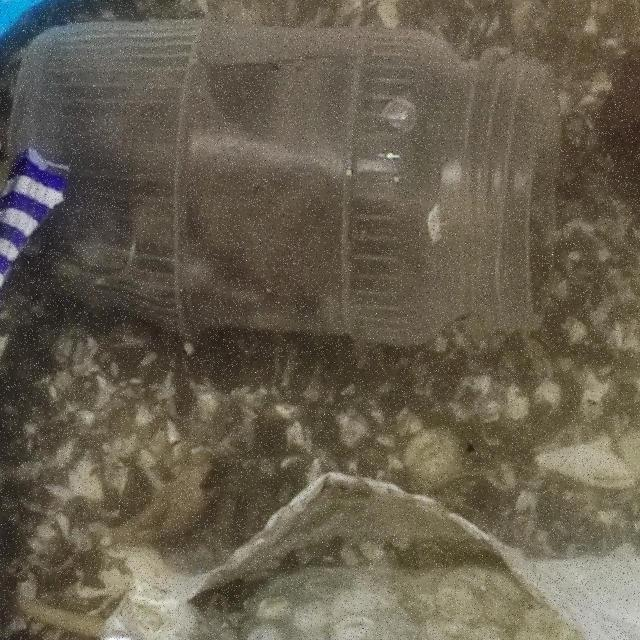plastic_waste: (10, 19, 566, 346)
